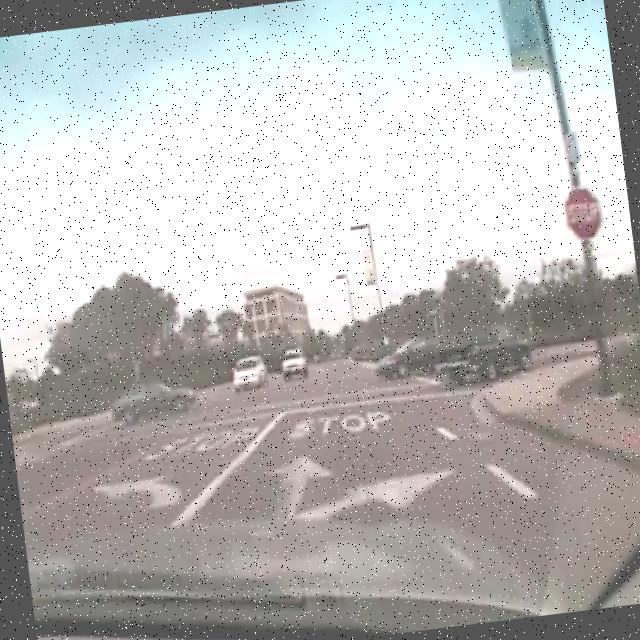Stop: (560, 183, 608, 246)
